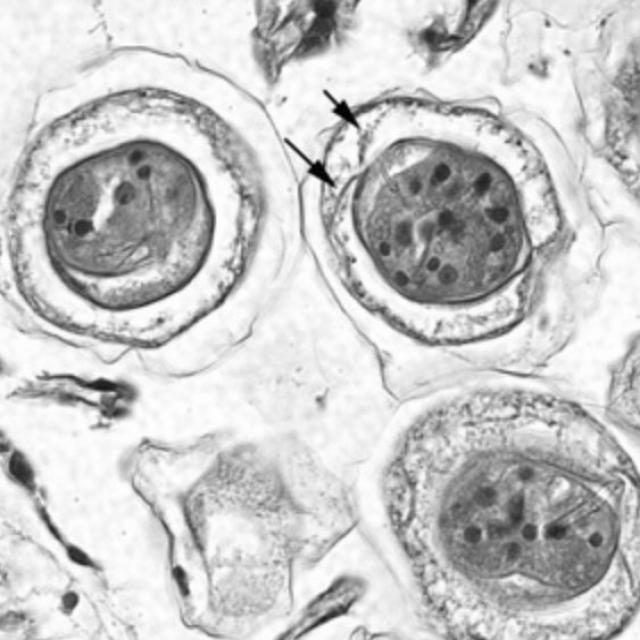Hymenolepis: (0, 78, 269, 352), (380, 374, 639, 638), (310, 90, 573, 340)
